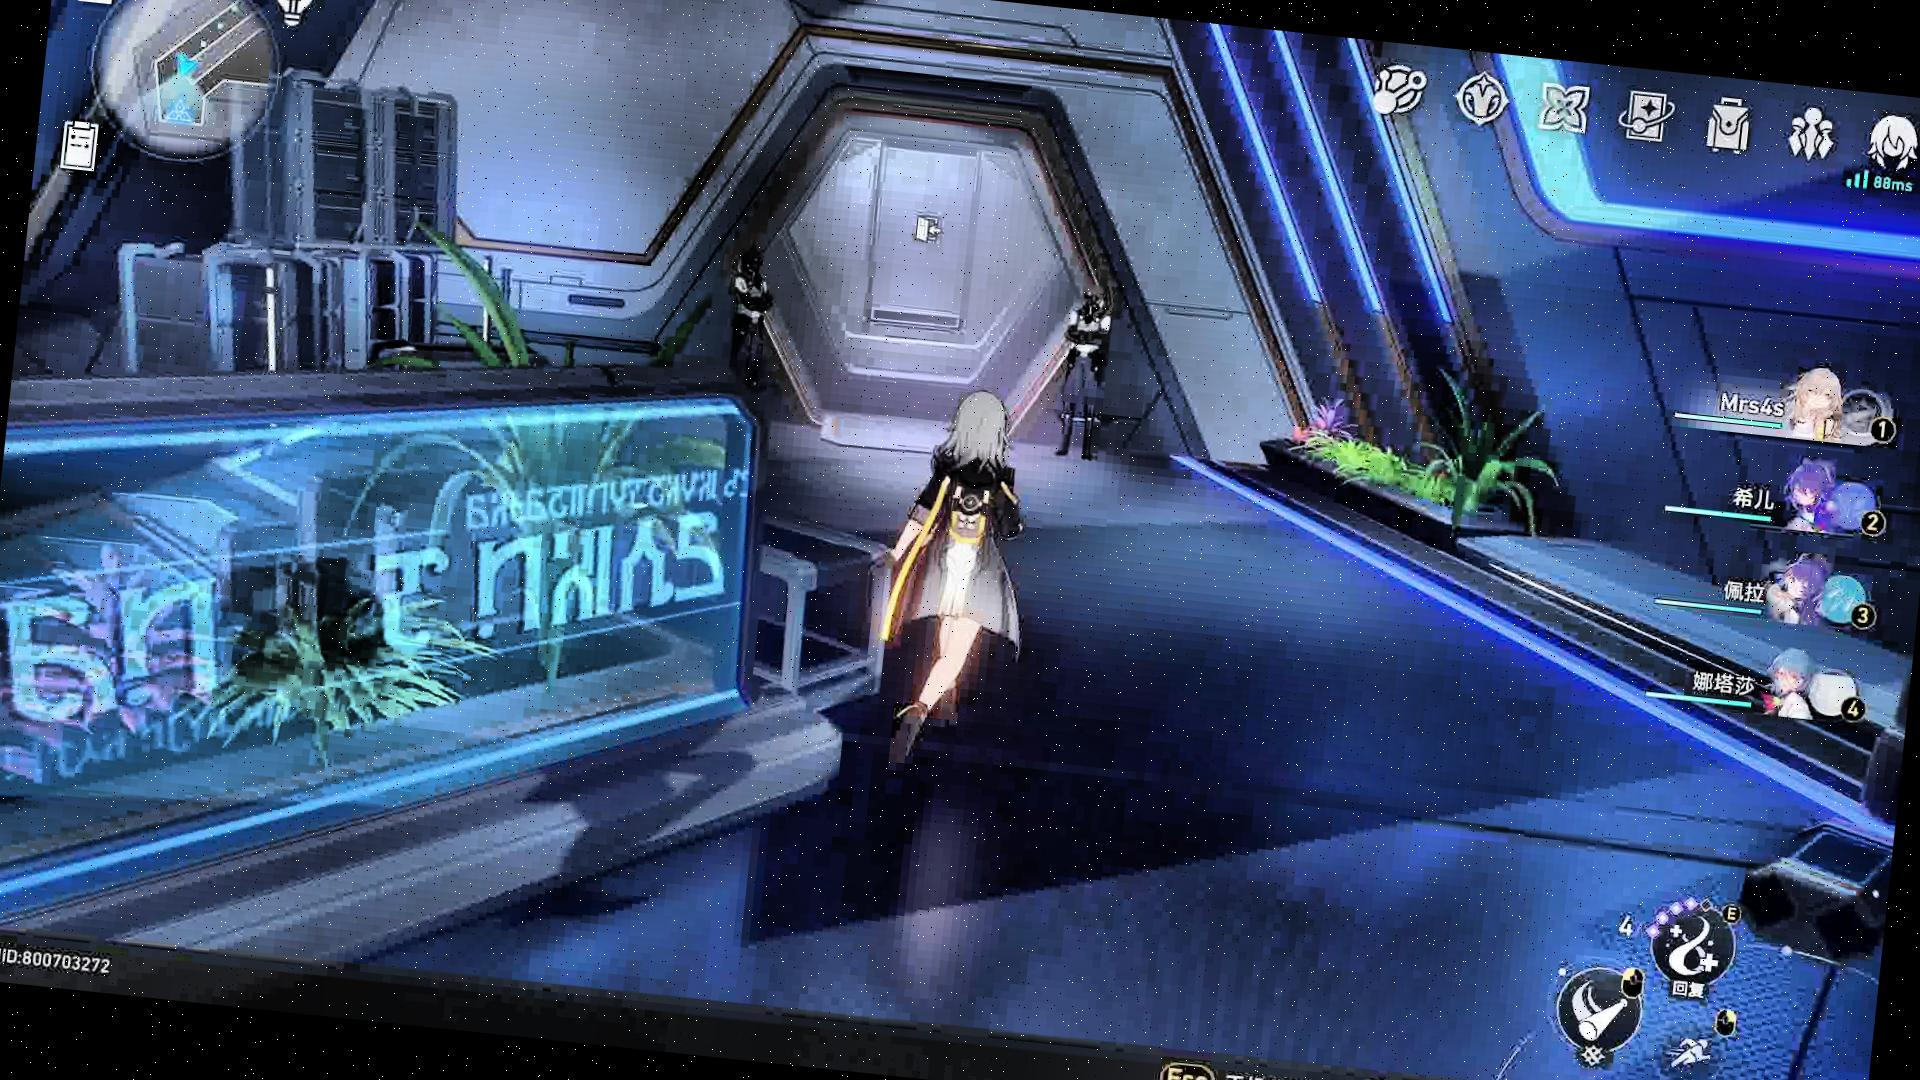Self: (853, 376, 1058, 779)
TeamMate: (1047, 274, 1126, 462), (720, 235, 779, 386)
